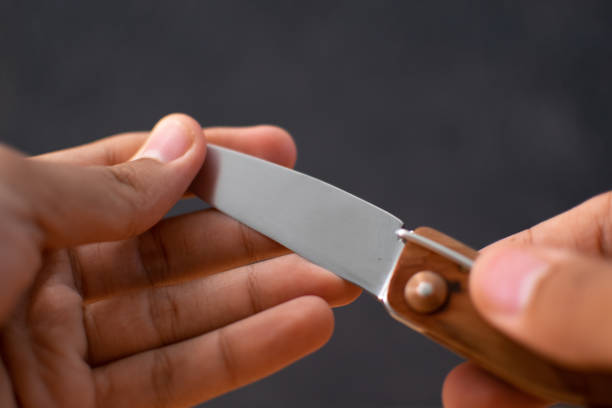knife: (184, 140, 612, 408)
